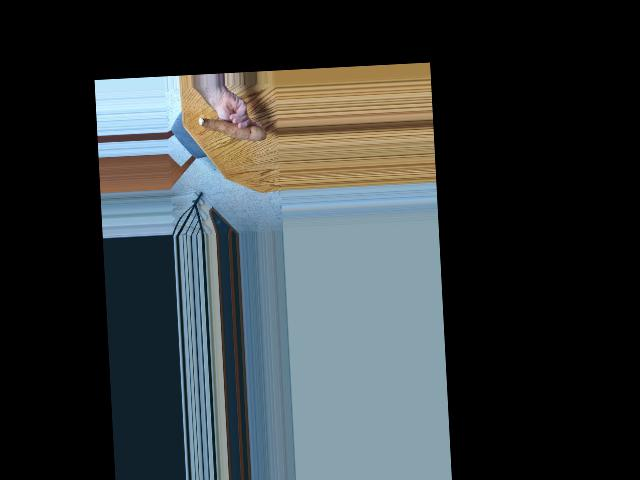sweet_potato: (197, 113, 265, 146)
